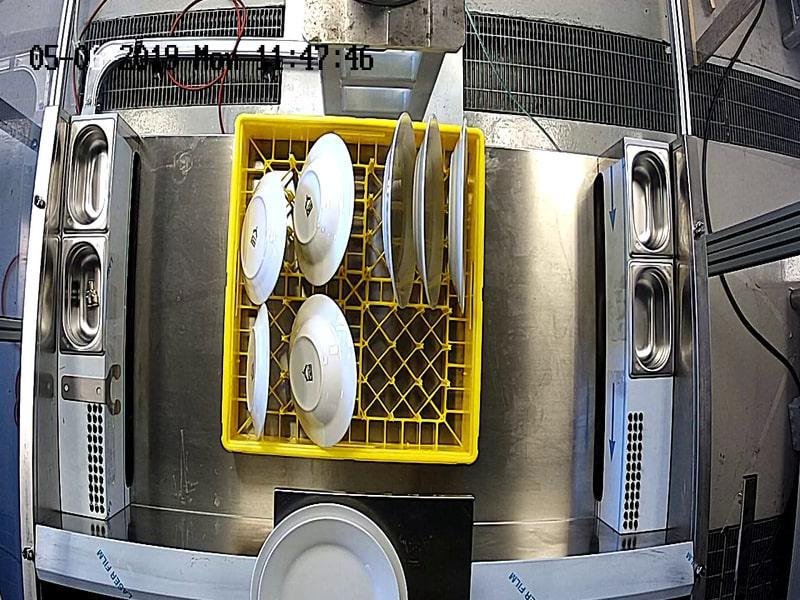Dish: (379, 112, 418, 310), (414, 114, 446, 307), (448, 118, 467, 308)
Inclined_dish: (289, 293, 355, 448), (295, 132, 356, 285), (241, 170, 287, 302), (248, 303, 272, 442)
